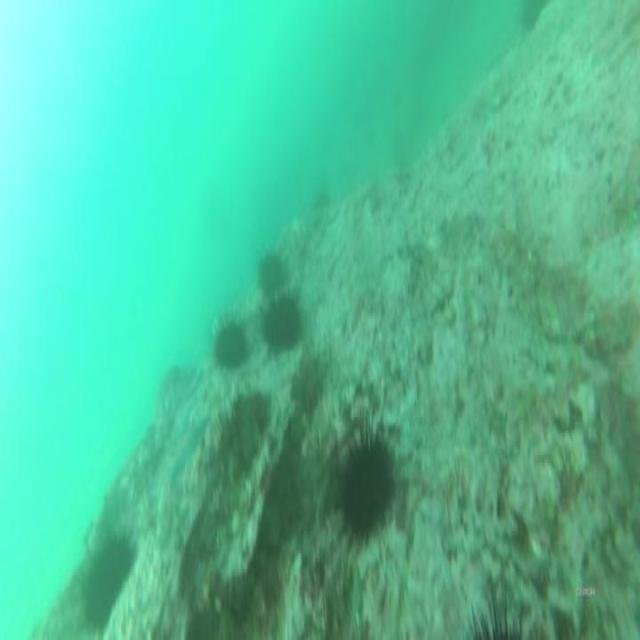echinus: (344, 441, 396, 534), (85, 537, 135, 623), (262, 300, 299, 348), (216, 322, 247, 368), (258, 254, 286, 291)
starfish: (170, 424, 203, 477)
